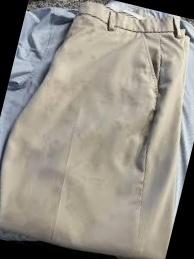oil: (99, 126, 144, 170)
